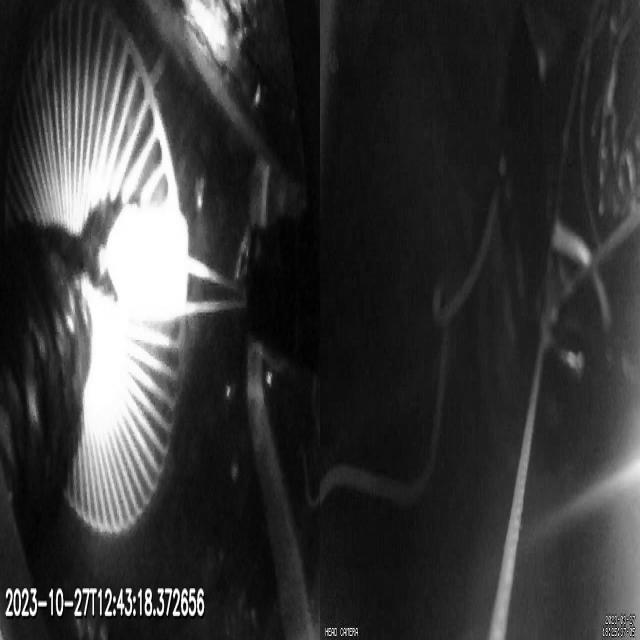head: (111, 208, 189, 324)
